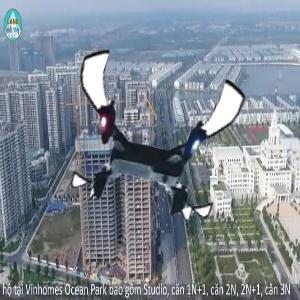drone: (64, 49, 236, 221)
